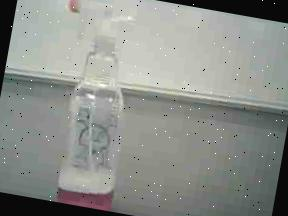hazard: (23, 0, 165, 214)
